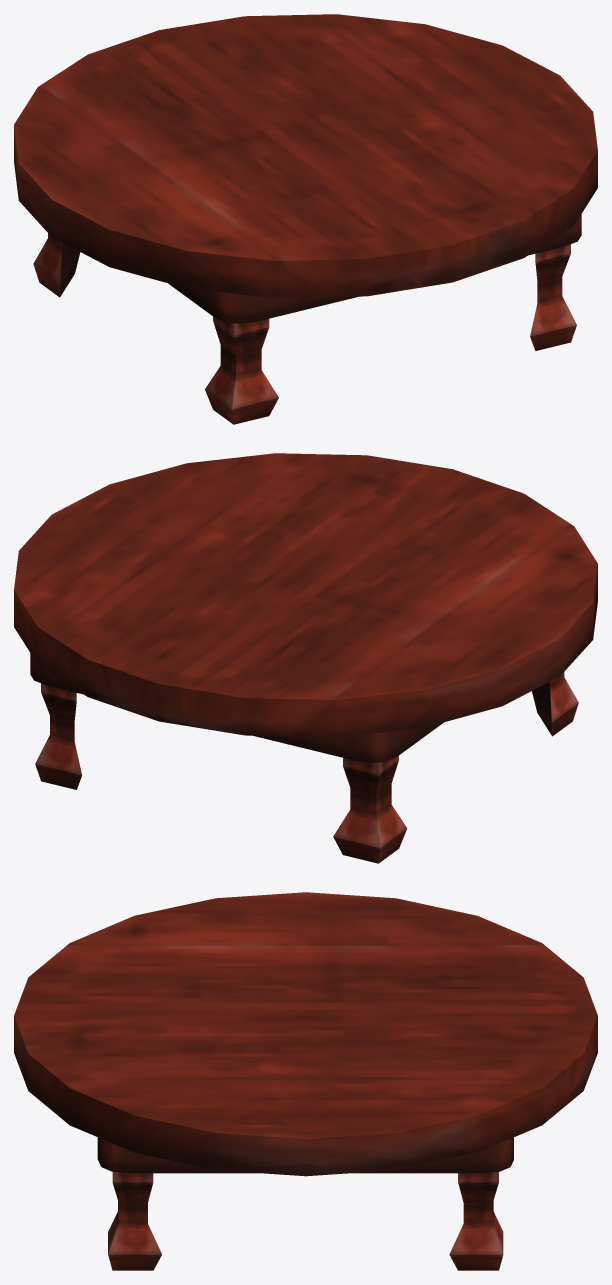
File: JapaneseDiningTable_HD.fbx
3 views of the same model, one above another, from view 1: azimuth 30°, elevation 25°; view 2: azimuth 150°, elevation 25°; view 3: azimuth 270°, elevation 25° (orthographic).
Visible parts, largest first — view 1: JapaneseDiningTable; view 2: JapaneseDiningTable; view 3: JapaneseDiningTable.
Part boxes in pixels (box(x1,y1,x2,y2)): JapaneseDiningTable: box(14, 14, 597, 424); JapaneseDiningTable: box(14, 453, 597, 863); JapaneseDiningTable: box(14, 892, 597, 1270).
Size of the model in its own units: 1.82 by 0.596 by 1.82.
